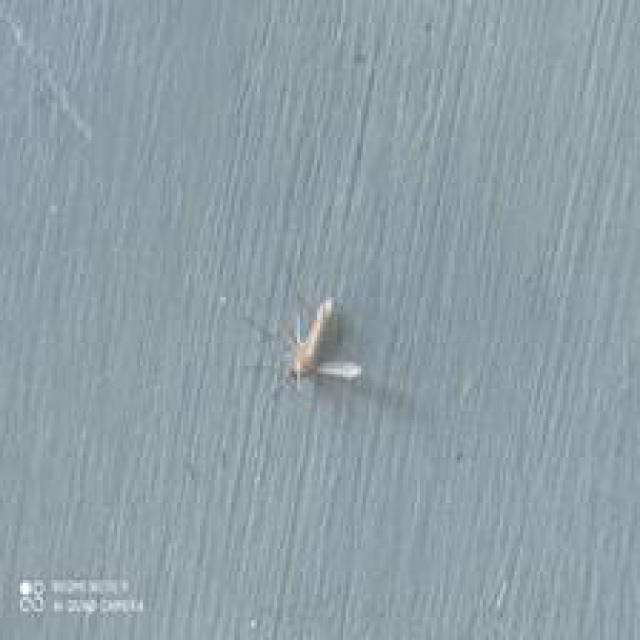Culex: (283, 296, 363, 390)
